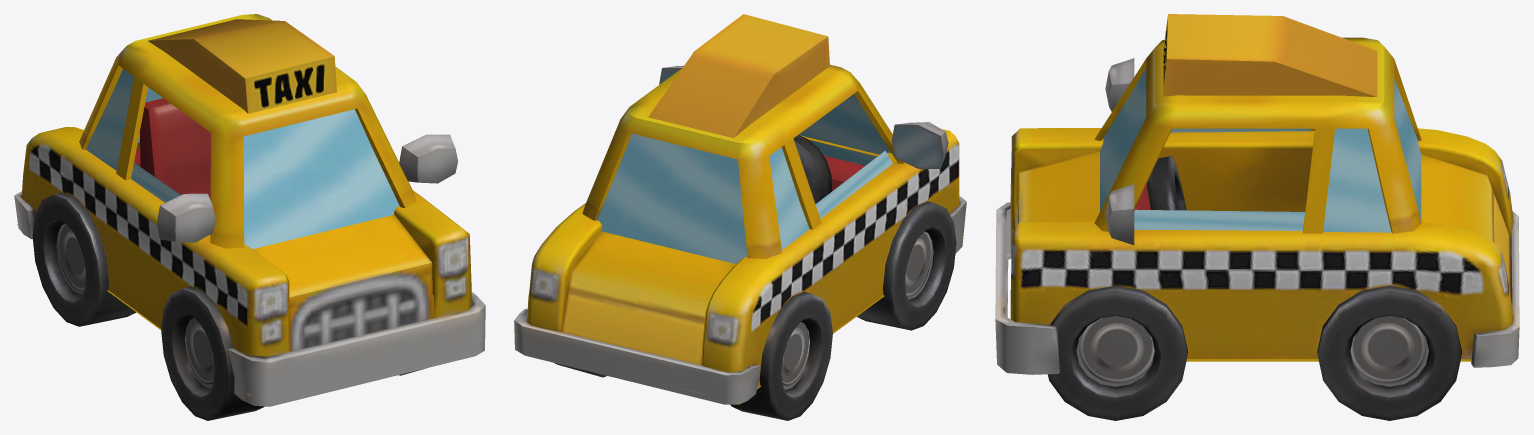
The model's file is auto.fbx.
3 views of the same model, side by side, from view 1: azimuth 30°, elevation 25°; view 2: azimuth 150°, elevation 25°; view 3: azimuth 270°, elevation 25° (orthographic). The views are drawn at different scales.
Visible parts, largest first — view 1: auto; view 2: auto; view 3: auto.
Part boxes in pixels (x1,y1,x2,y2): auto: (14,14,485,420); auto: (514,14,966,420); auto: (995,14,1519,420).
Size of the model in its own units: 65.66 by 64.4 by 94.4.
